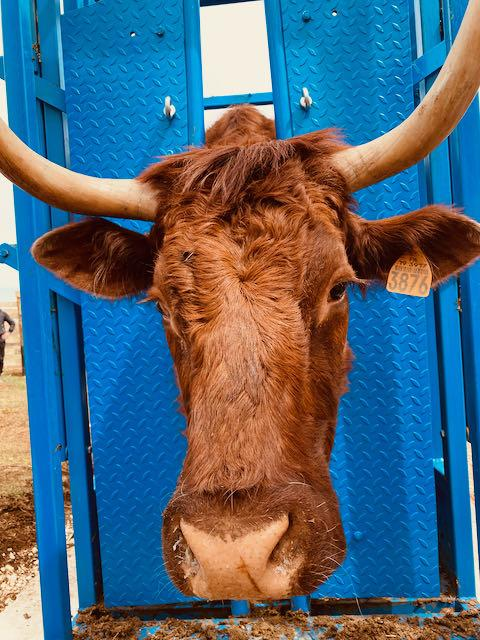muzzles: (152, 502, 351, 607)
